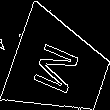M_E: (31, 37, 88, 99)
